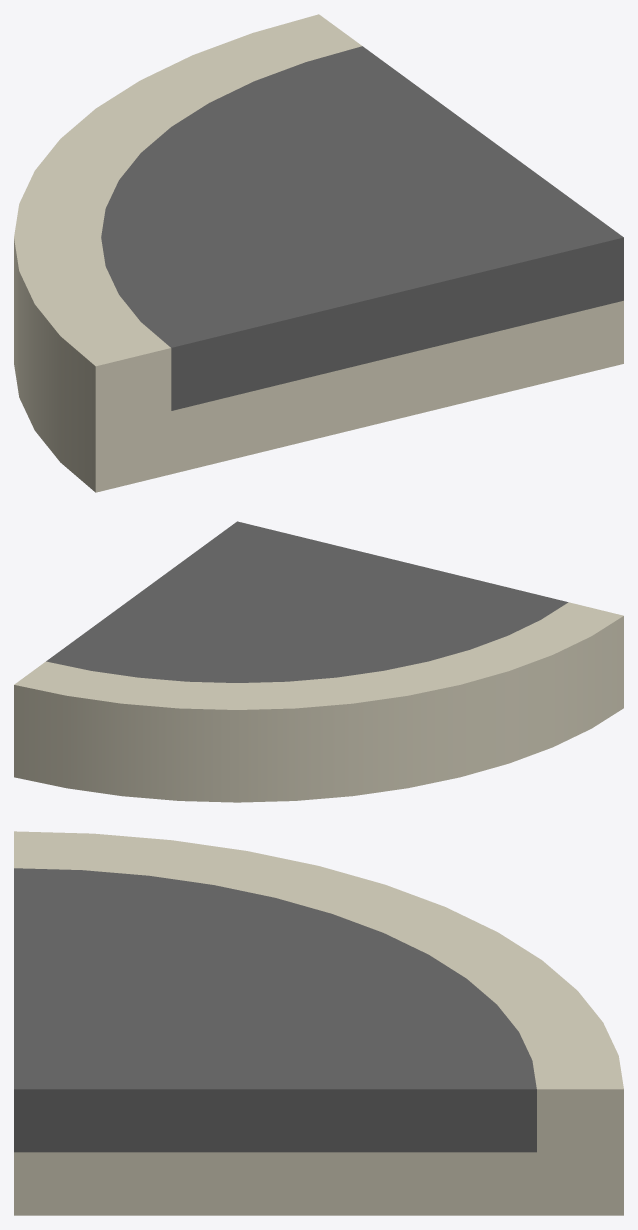
Rendered from roadTile_111.obj.
3 renders of one model, top to bottom at view 1: azimuth 30°, elevation 25°; view 2: azimuth 150°, elevation 25°; view 3: azimuth 270°, elevation 25°, orthographic. The views are drawn at different scales.
Visible parts, largest first — view 1: Mesh1_Group1_Model.071; view 2: Mesh1_Group1_Model.071; view 3: Mesh1_Group1_Model.071.
Boxes of the visible parts, left/top/right/bottom form: Mesh1_Group1_Model.071: left=14, top=14, right=623, bottom=492; Mesh1_Group1_Model.071: left=14, top=521, right=623, bottom=802; Mesh1_Group1_Model.071: left=14, top=831, right=623, bottom=1215.
Bounding box in the file's own units: 2.62 × 0.6 × 2.62.
